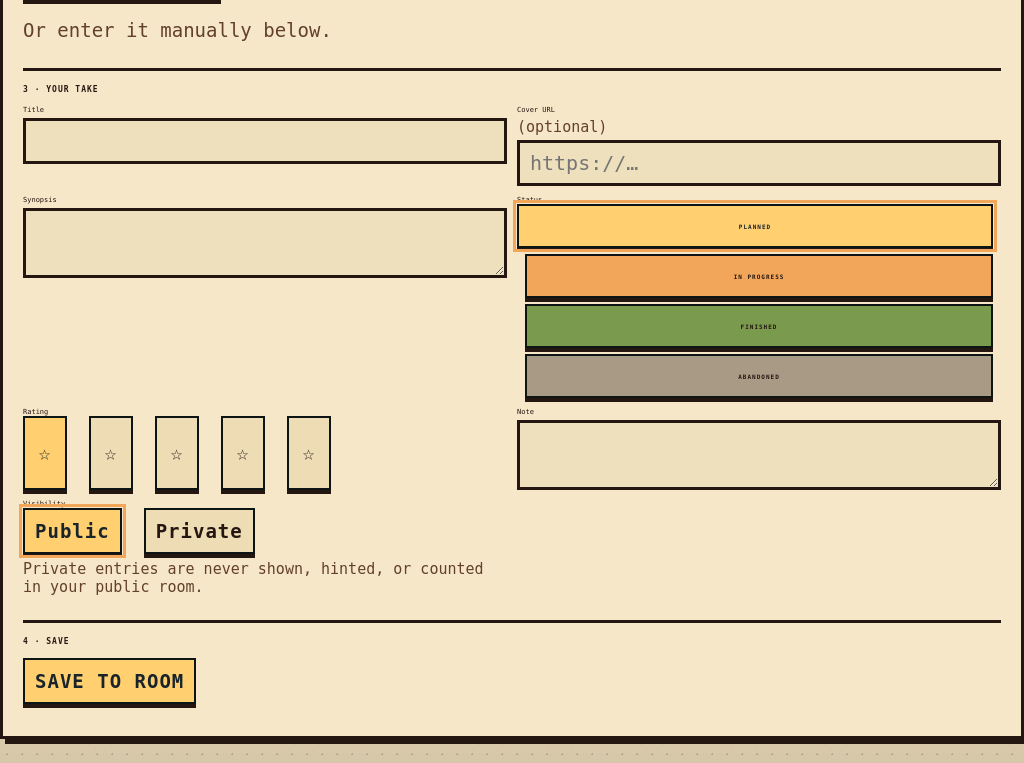
requires a title before saving an entry
(page scrolled)
Click the button "SAVE TO ROOM" at (110, 681), box [23,658,196,704]
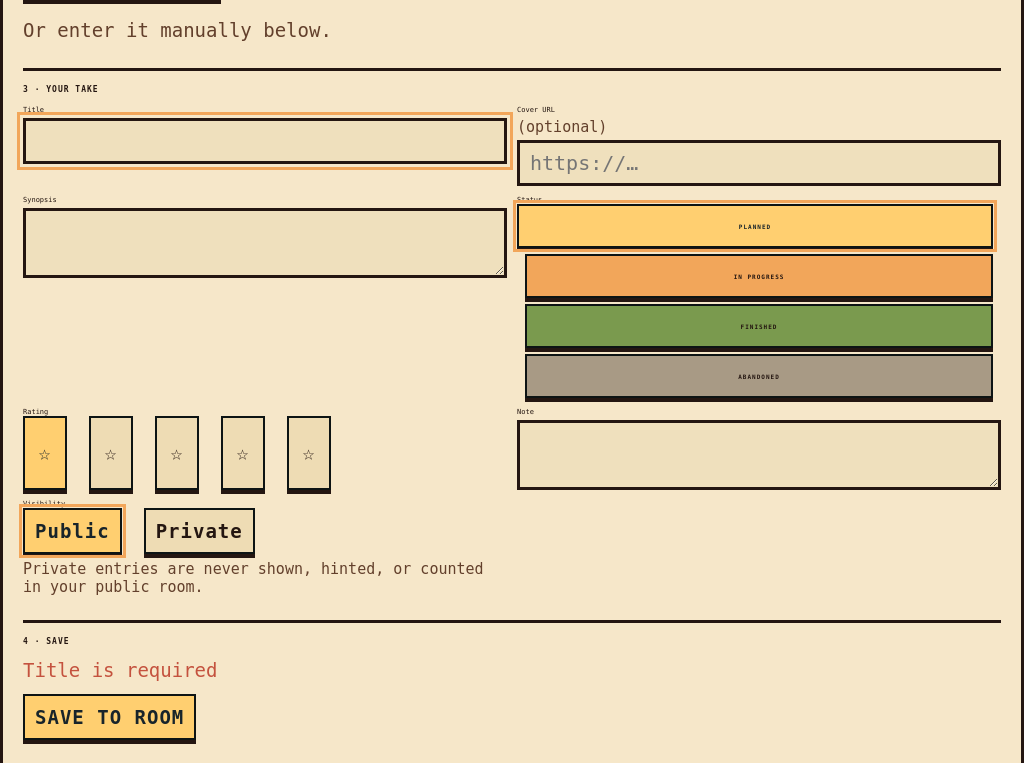
Now the text "Title is required" is shown, box [23,659,218,681]
